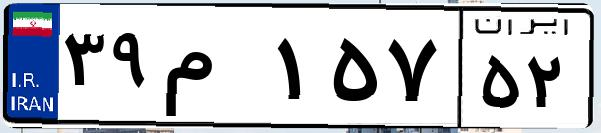1: (270, 28, 330, 110)
2: (525, 38, 570, 115)
3: (57, 26, 110, 100)
5: (330, 28, 385, 110), (475, 38, 525, 113)
7: (385, 28, 445, 110)
9: (110, 28, 158, 98)
م: (158, 20, 270, 120)
